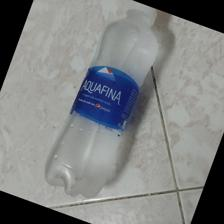Aquafina: (46, 1, 156, 199)
